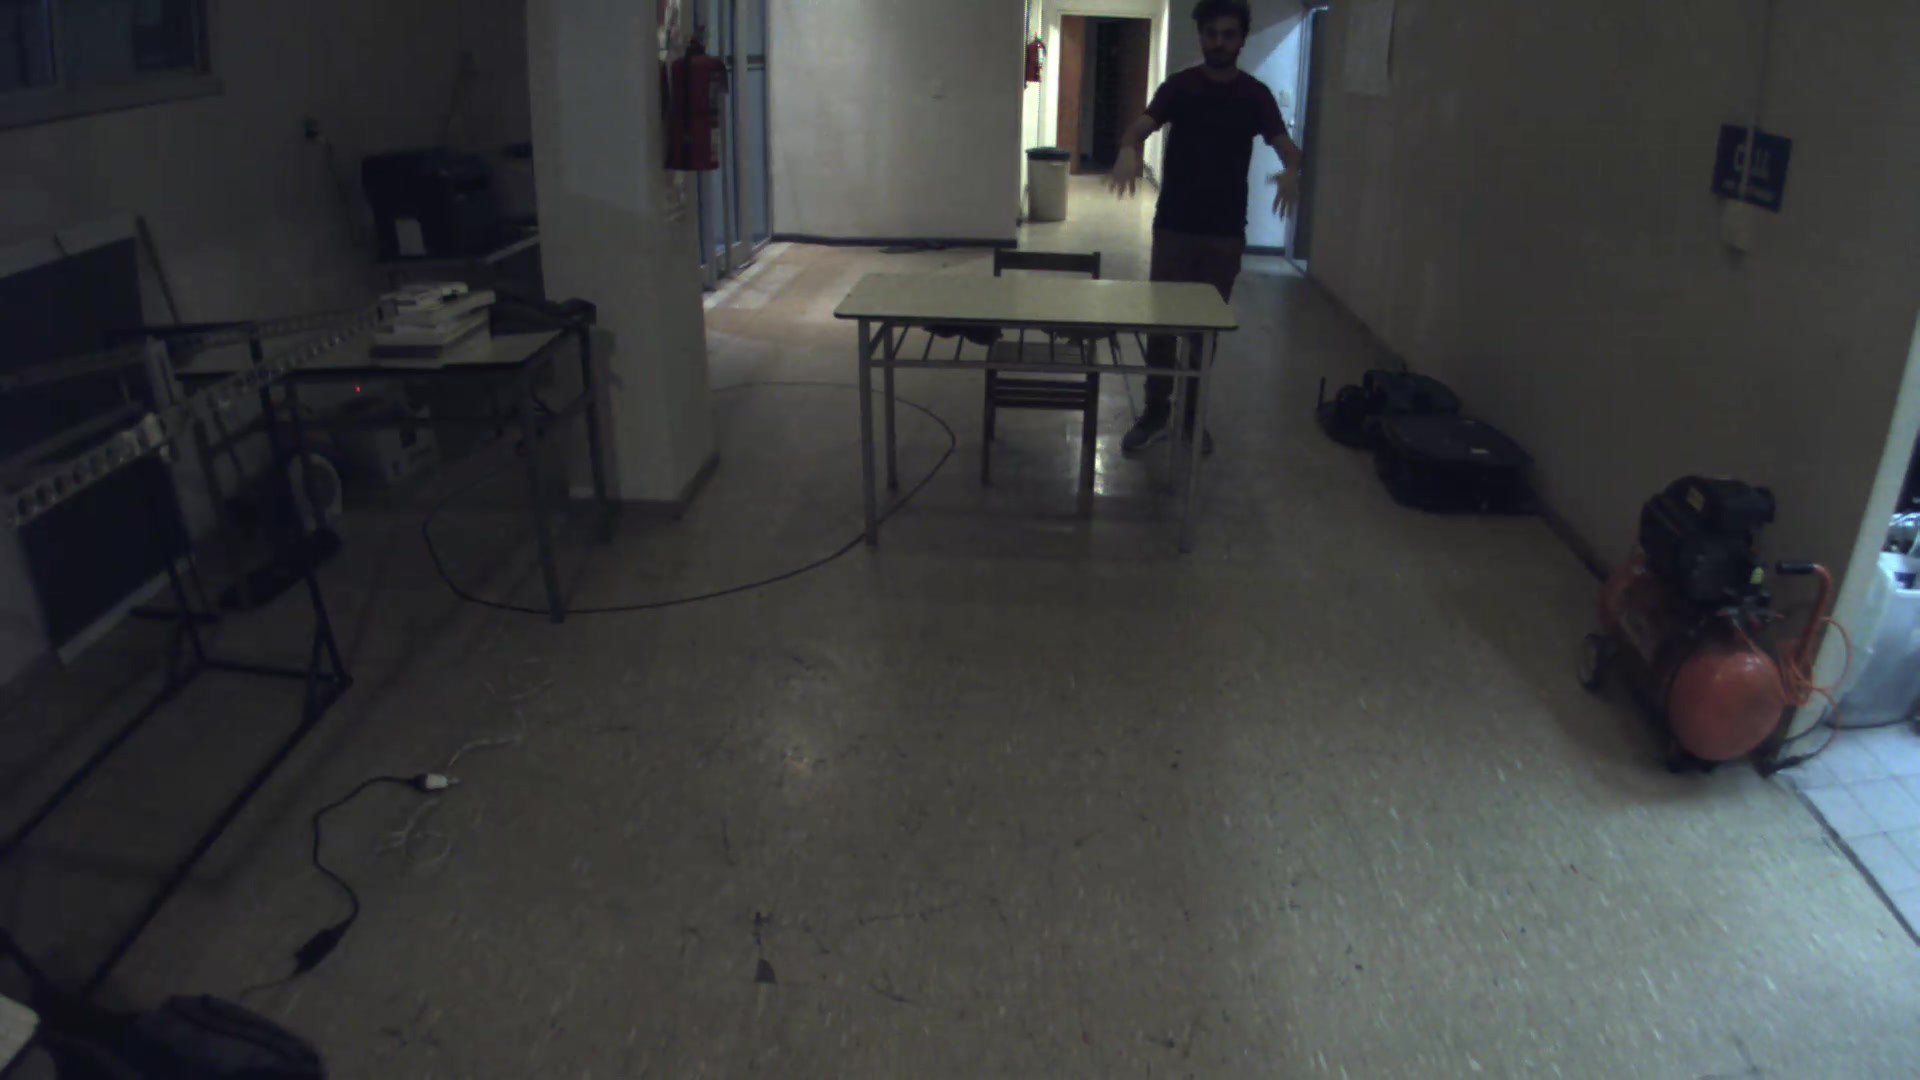hand: (1092, 135, 1164, 207), (1266, 160, 1331, 233)
